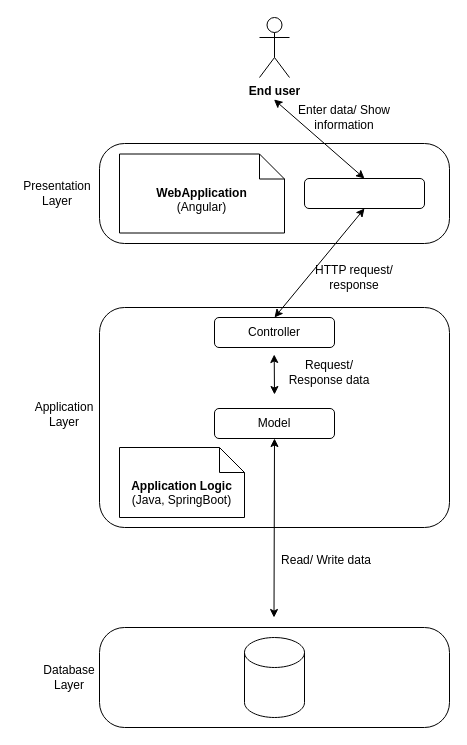
This 467x745 diagram has some shape labels left out. The centre of each missing label's shape, as x and y in pixels:
Database (MySql): (x=274, y=677)
View: (x=364, y=193)
